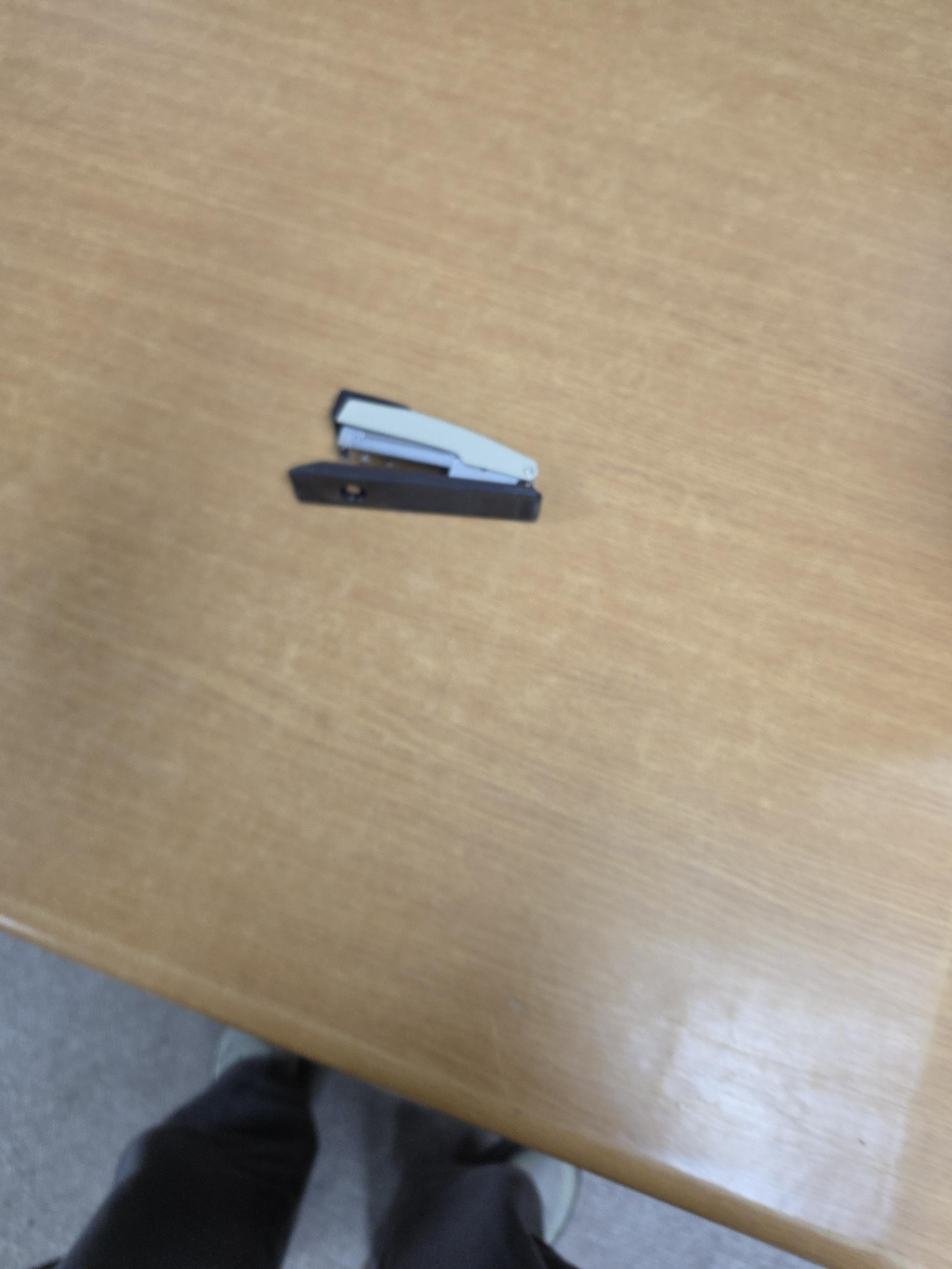stapler: (287, 389, 542, 522)
